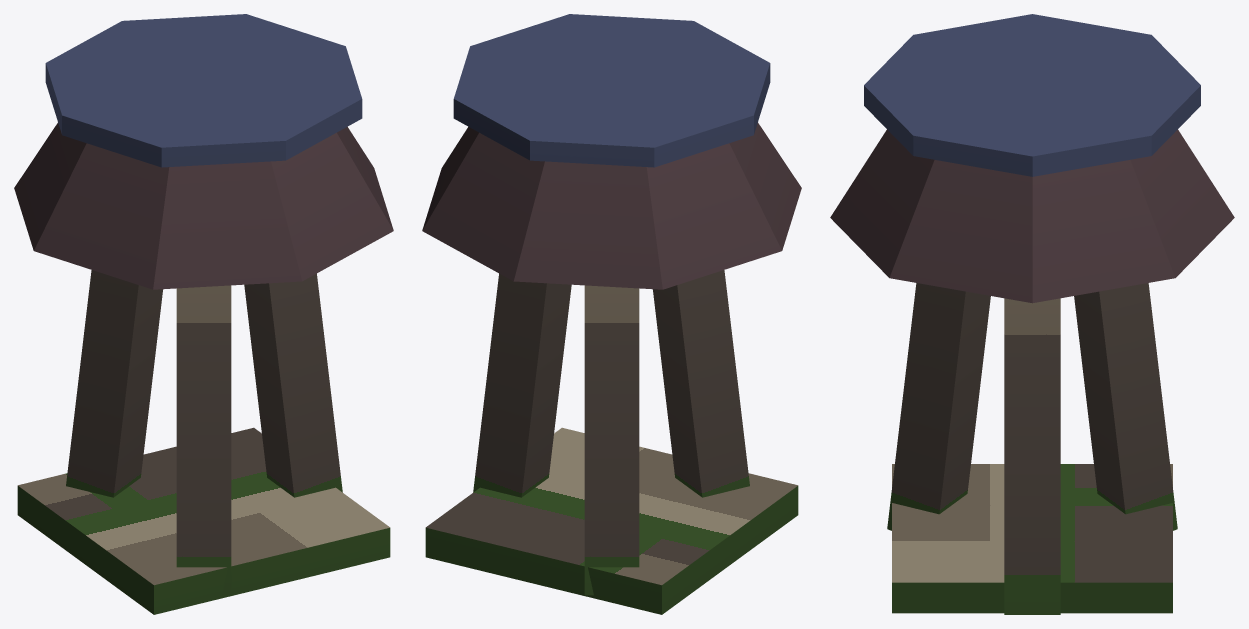
File: brazier.glb
3 renders of one model, left to right at view 1: azimuth 30°, elevation 25°; view 2: azimuth 150°, elevation 25°; view 3: azimuth 270°, elevation 25°, orthographic. The views are drawn at different scales.
Visible parts, largest first — view 1: brazier; view 2: brazier; view 3: brazier.
Part boxes in pixels (x1,y1,x2,y2): brazier: (14,14,393,614); brazier: (422,14,801,614); brazier: (830,14,1234,614).
Bounding box in the file's own units: 0.72 × 0.926 × 0.72.
Materials: 2 (1 with a texture image).
